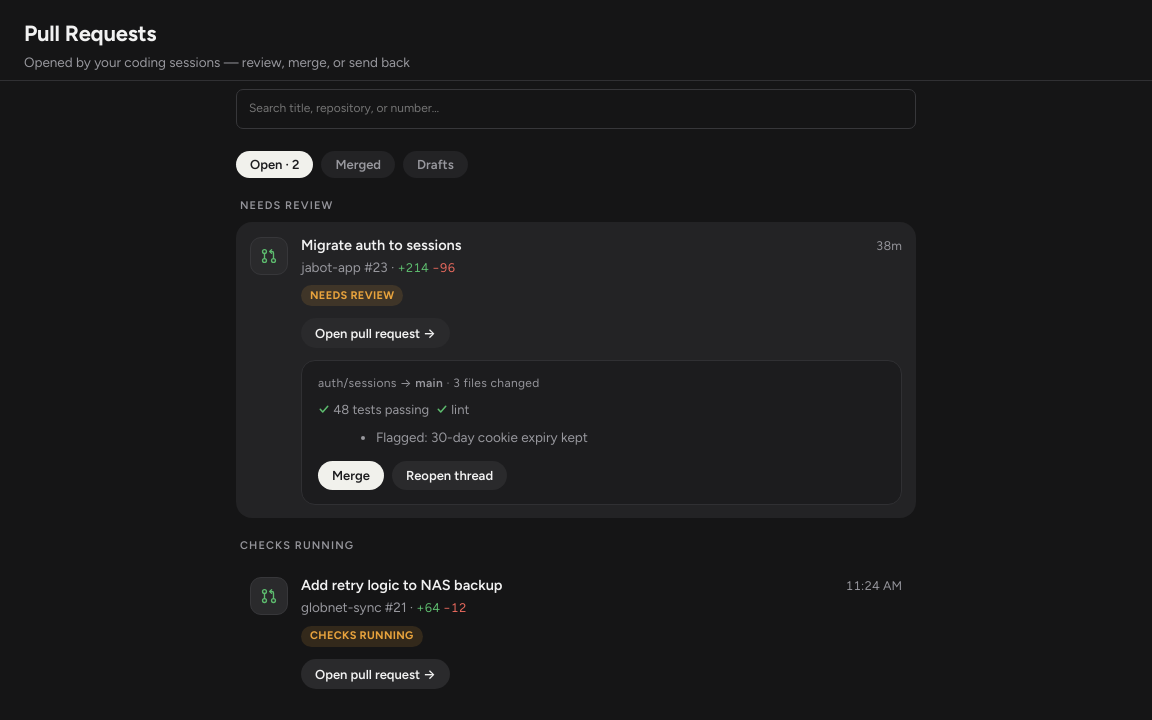
Test case: PullRequestsView › shows drafts only under Drafts
The image size is (1152, 720).
Check: the text "Bump dependencies" is not shown
Click the tab "Drafts" at [435, 164], box top-left (403, 151), bottom-right (468, 178)
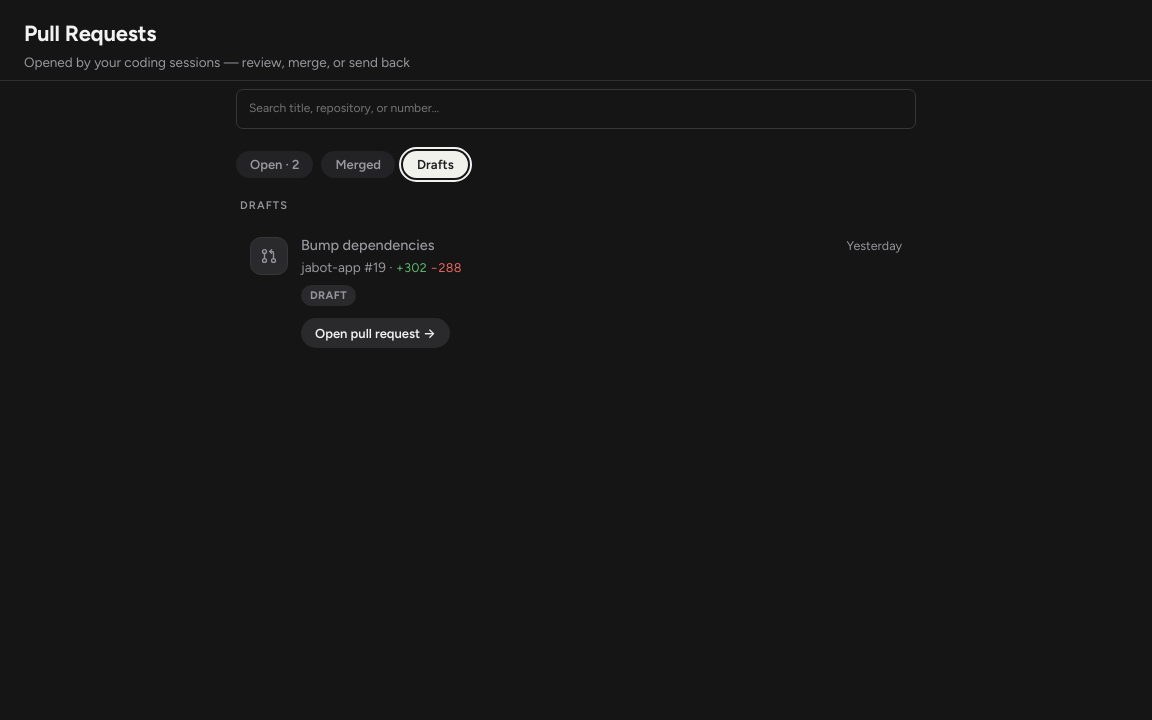
Check: the text "Bump dependencies" is shown, box top-left (301, 235), bottom-right (434, 256)
Check: the button "Migrate auth to sessions" is gone
